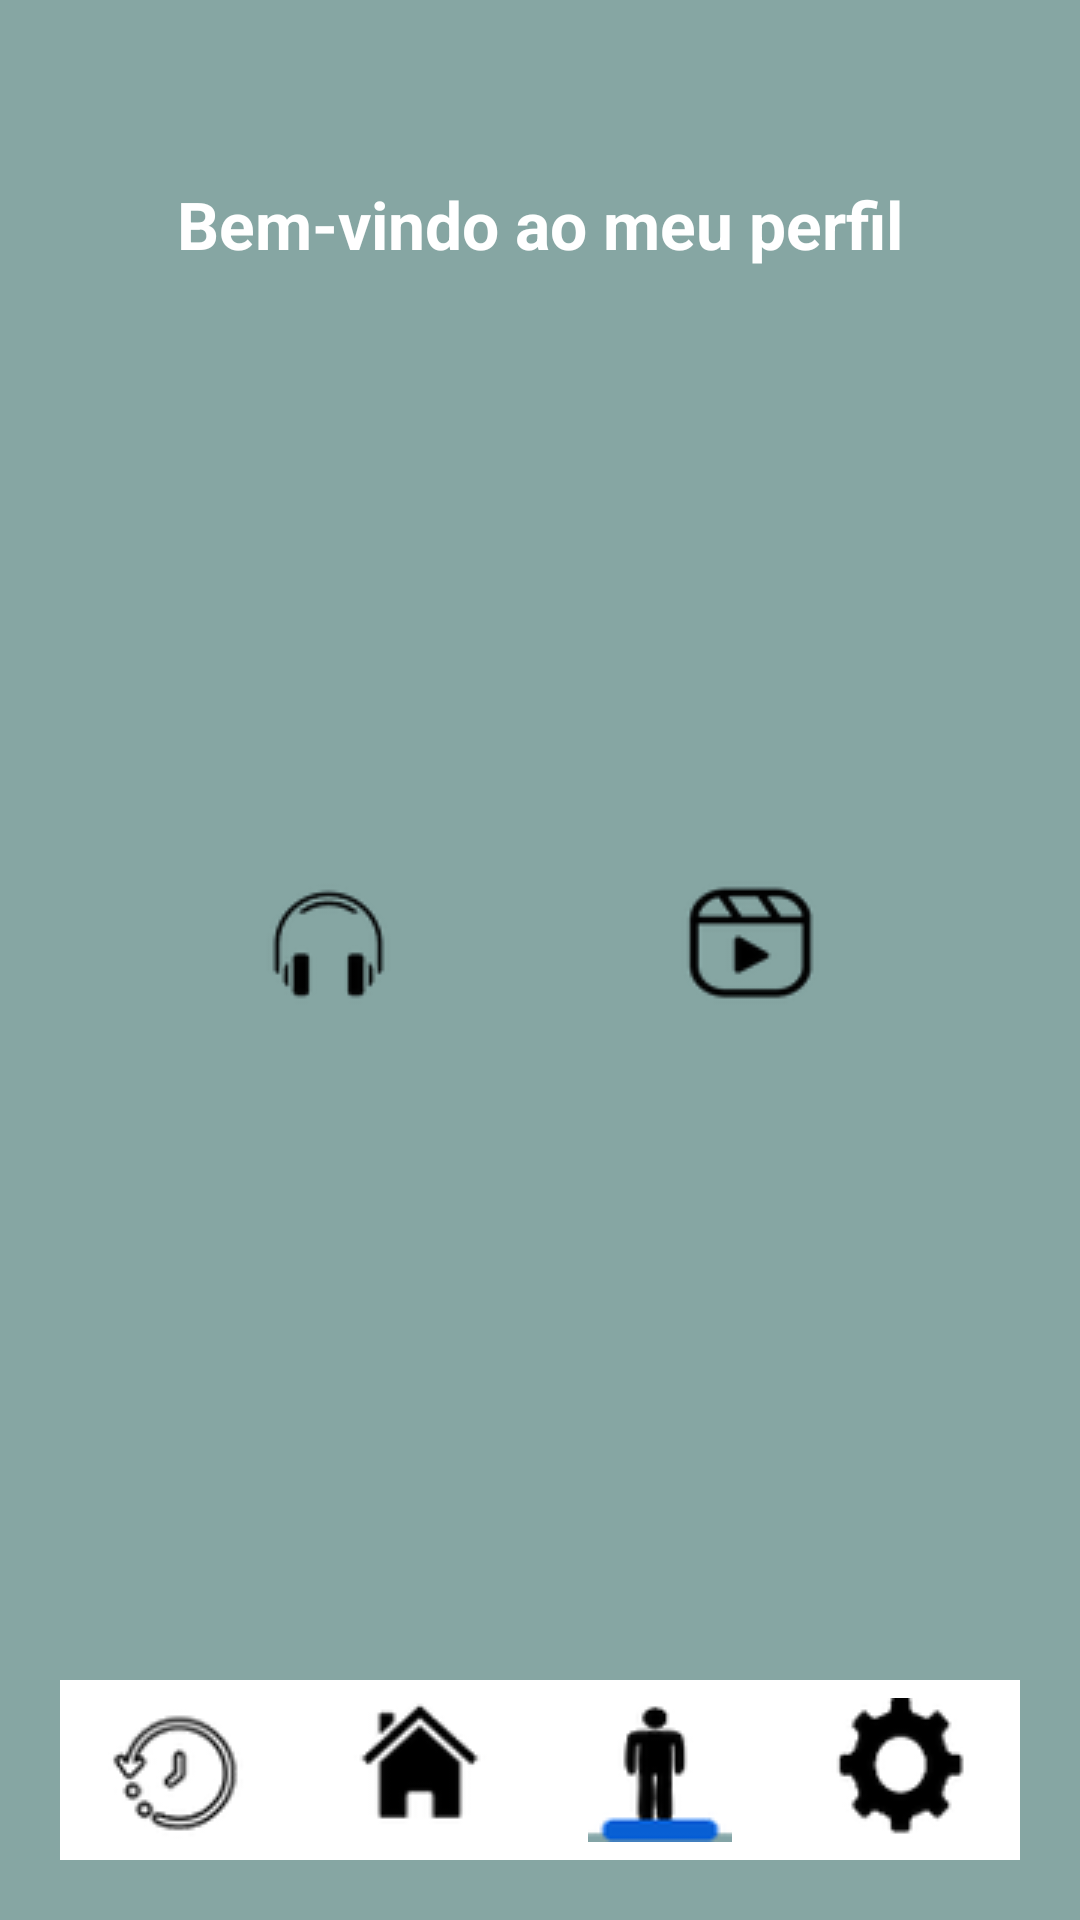

Icon click points for this 1080x1920 phone screenshot, format (x=x, y=y):
Configurações: (x=900, y=1770)
Fone de ouvido: (x=328, y=944)
Home: (x=419, y=1762)
Perfil: (x=660, y=1774)
